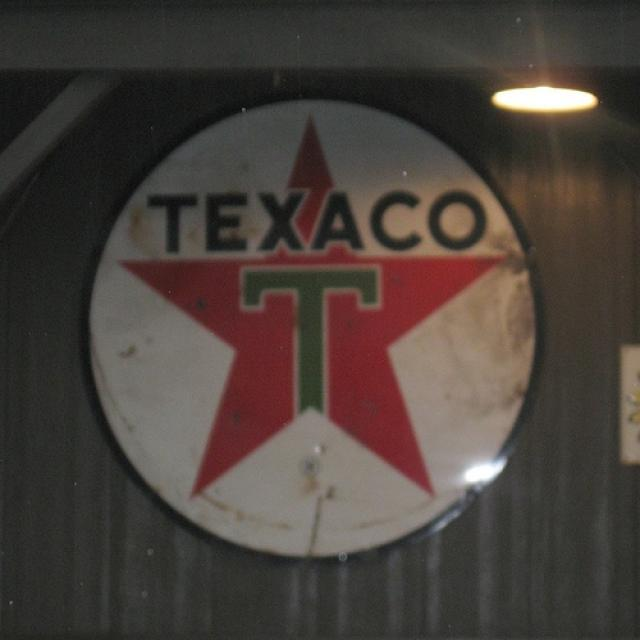texaco: (82, 99, 544, 557)
